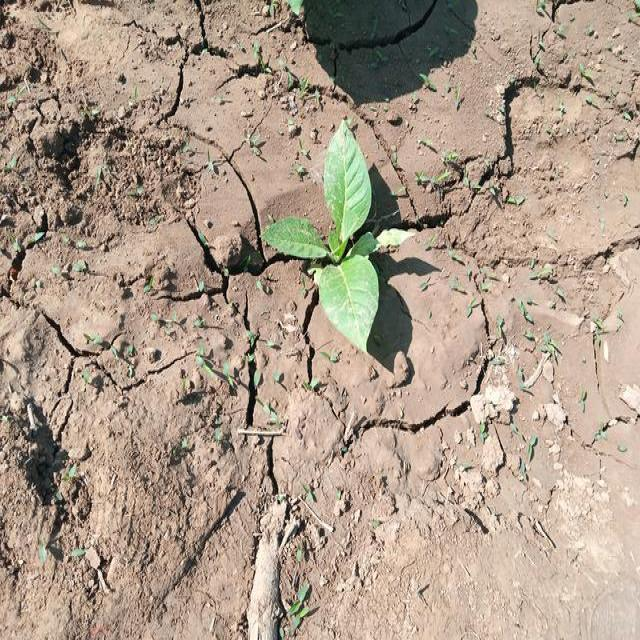crop: (275, 132, 403, 335)
